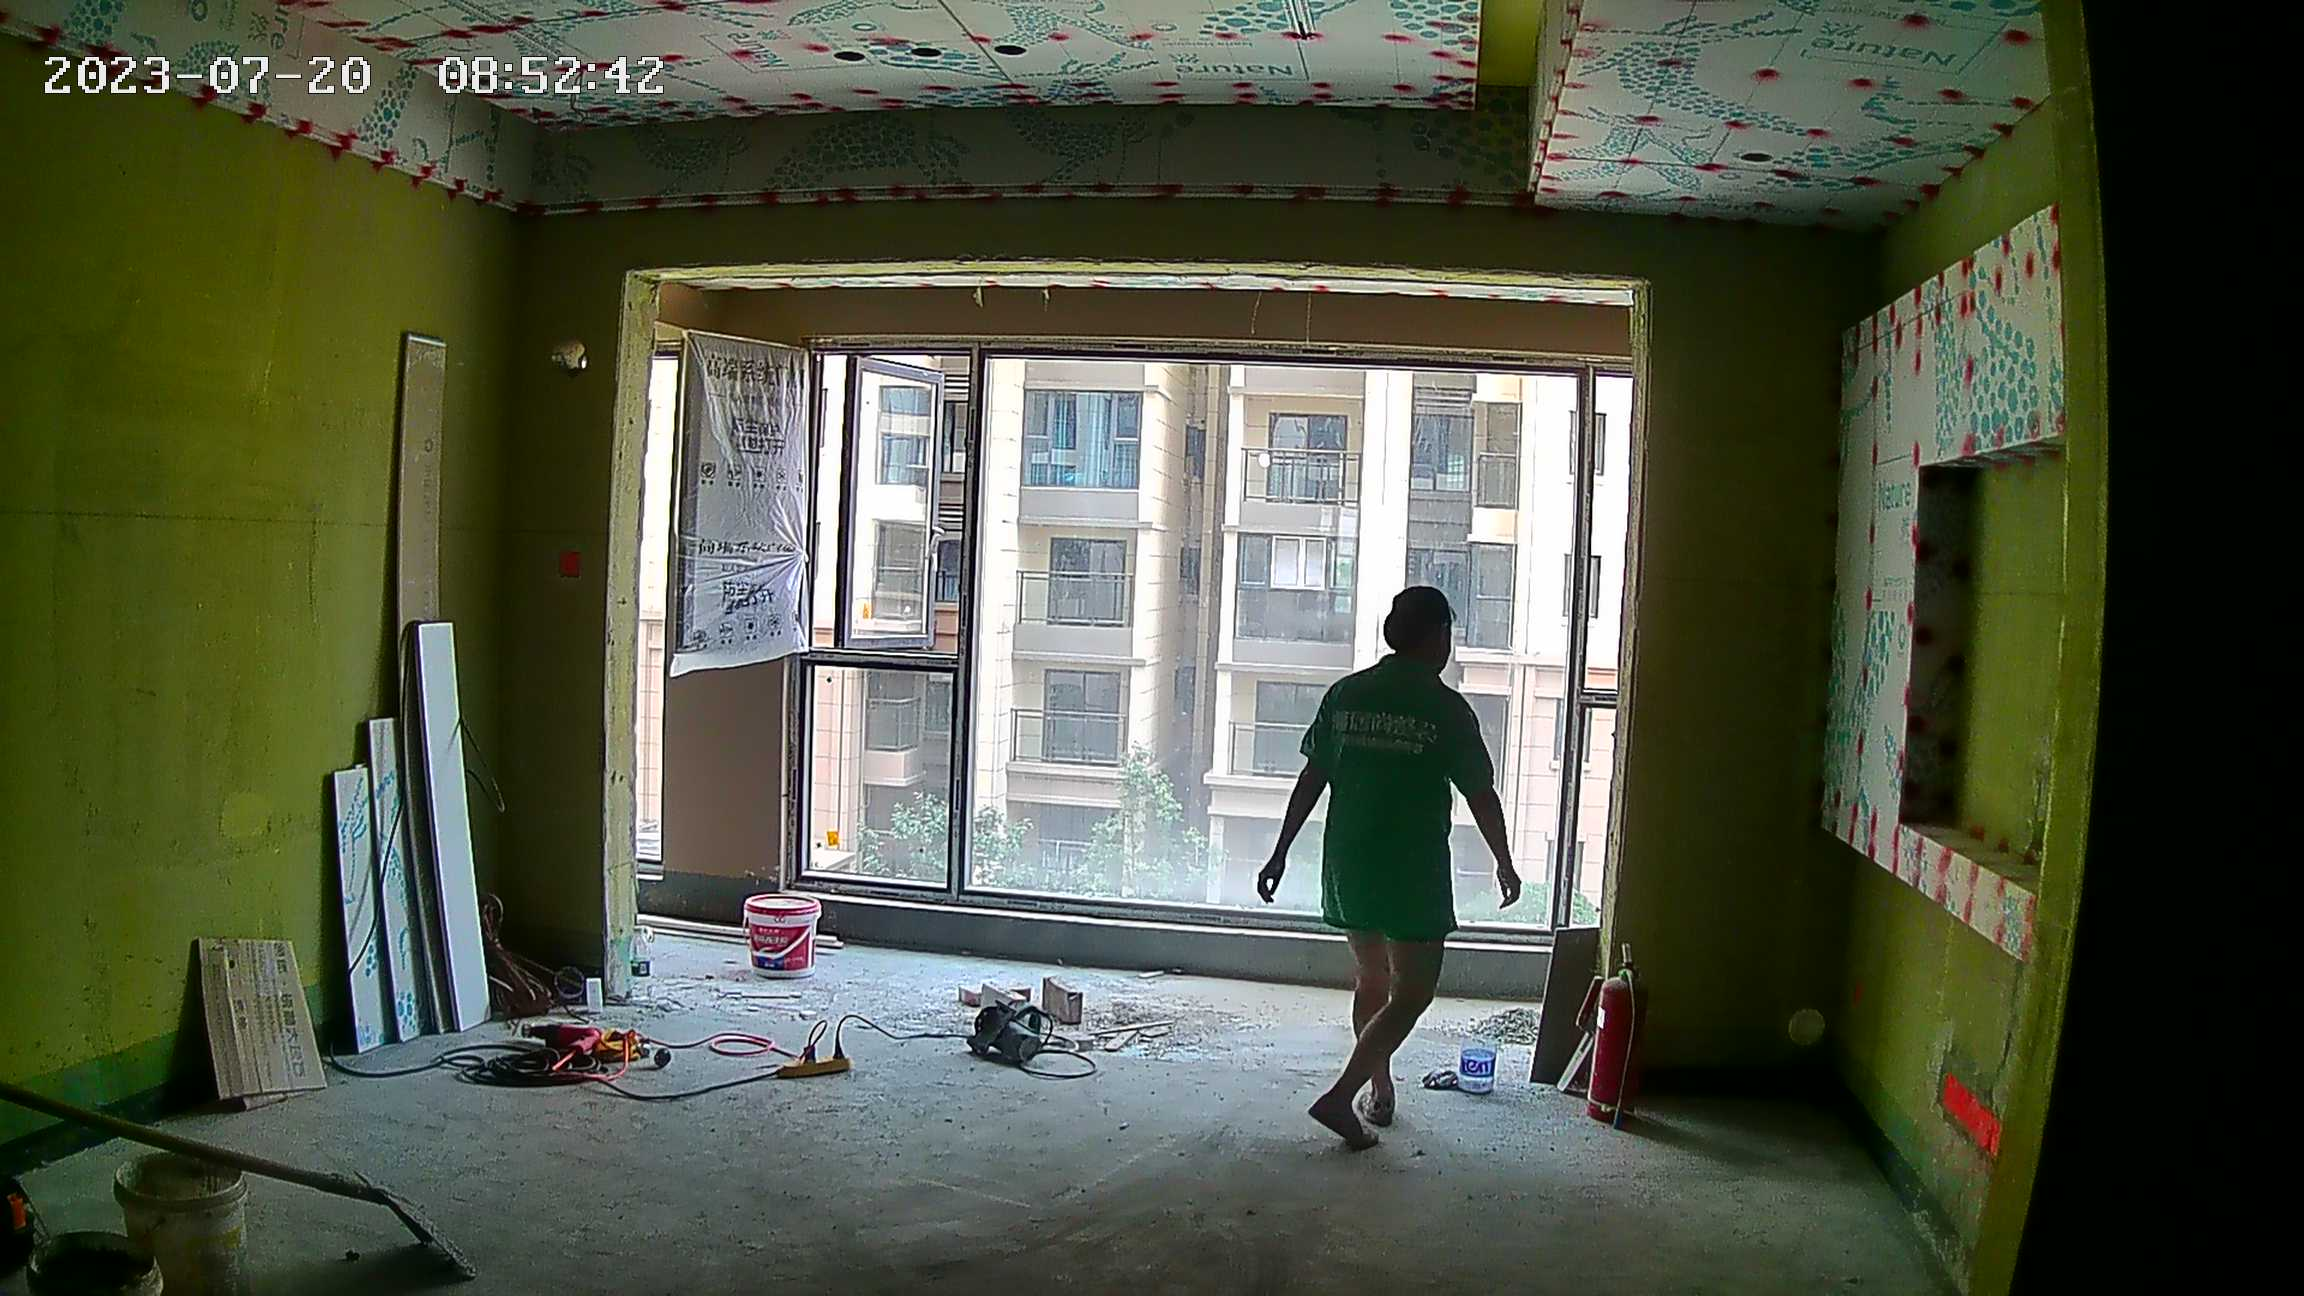people: (1255, 585, 1524, 1150)
window: (825, 354, 1621, 933)
